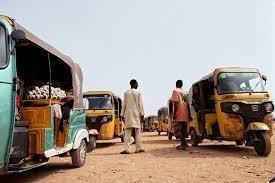keke: (0, 14, 89, 183), (174, 64, 270, 158)
